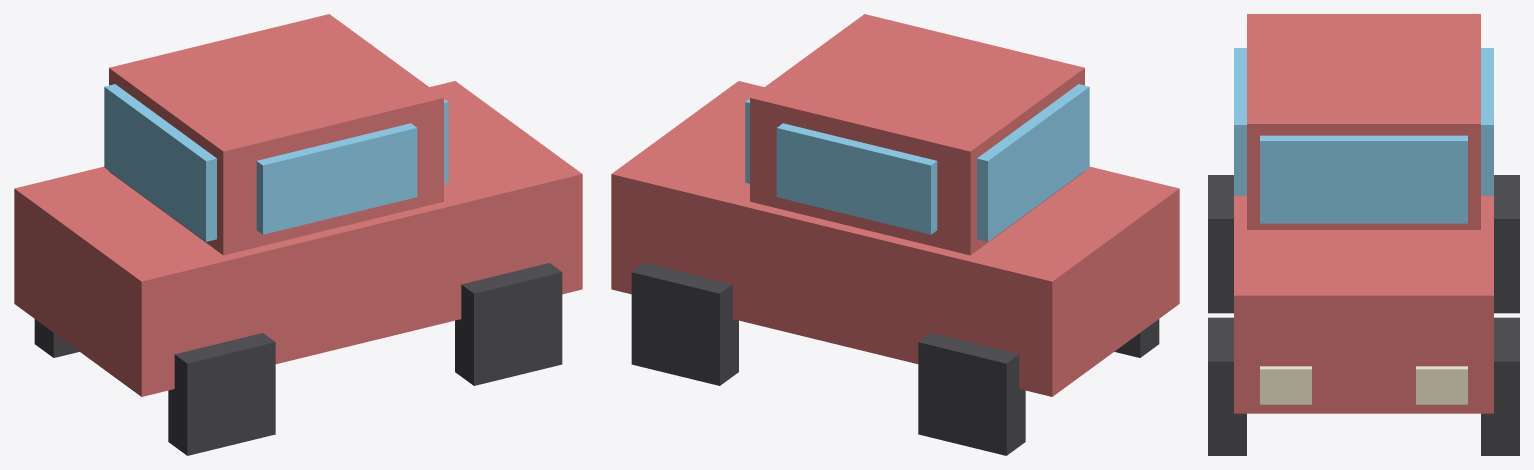
File: car.glb
The picture shows the model from 3 angles, left to right: view 1: azimuth 30°, elevation 25°; view 2: azimuth 150°, elevation 25°; view 3: azimuth 270°, elevation 25°; orthographic projection. The views are drawn at different scales.
Visible parts, largest first — view 1: car; view 2: car; view 3: car.
Boxes of the visible parts, x1,y1,x2,y2 form: car: [14, 14, 582, 455]; car: [611, 14, 1179, 455]; car: [1208, 14, 1519, 455].
Bounding box in the file's own units: 0.405 × 0.24 × 0.24.
